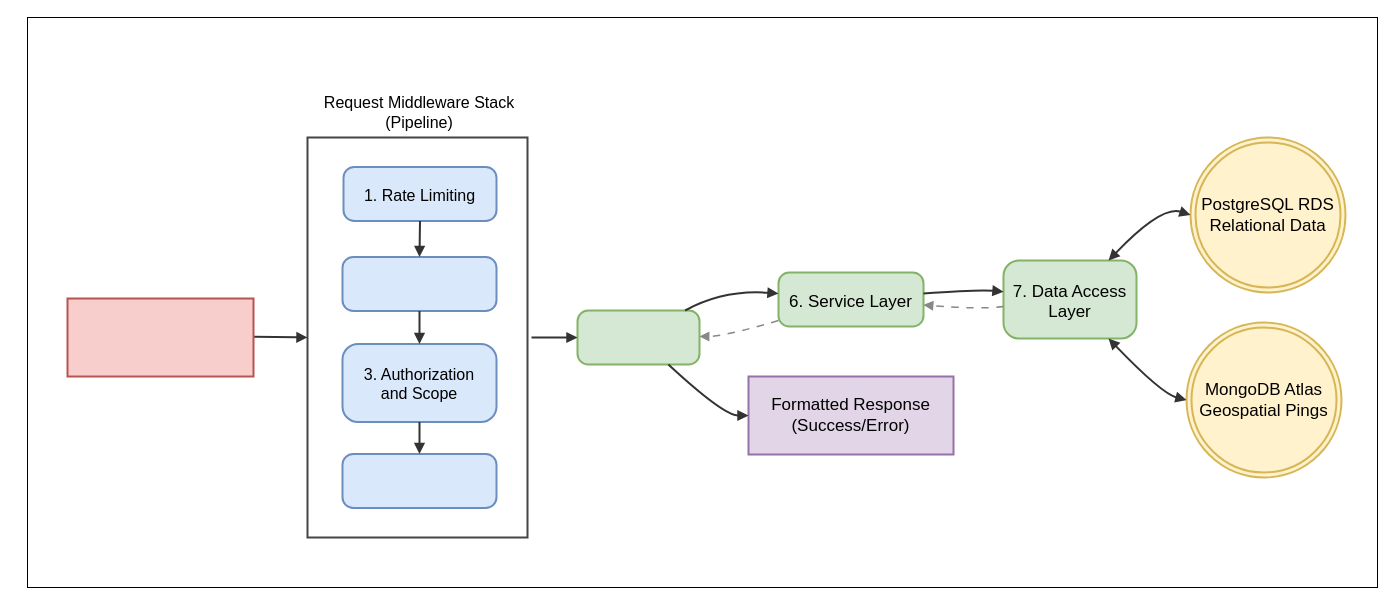
The diagram is 1395 pixels wide and 605 high, and some of its shapes have lost their labels. Here are the shapes that lost their labels. From the top down, the centre of each, then its label:
the point at 419,284: 2. Authentication
the point at 160,337: Incoming Request (Client/Device)
the point at 638,337: 5. Controller
the point at 419,480: 4. Input Validation
